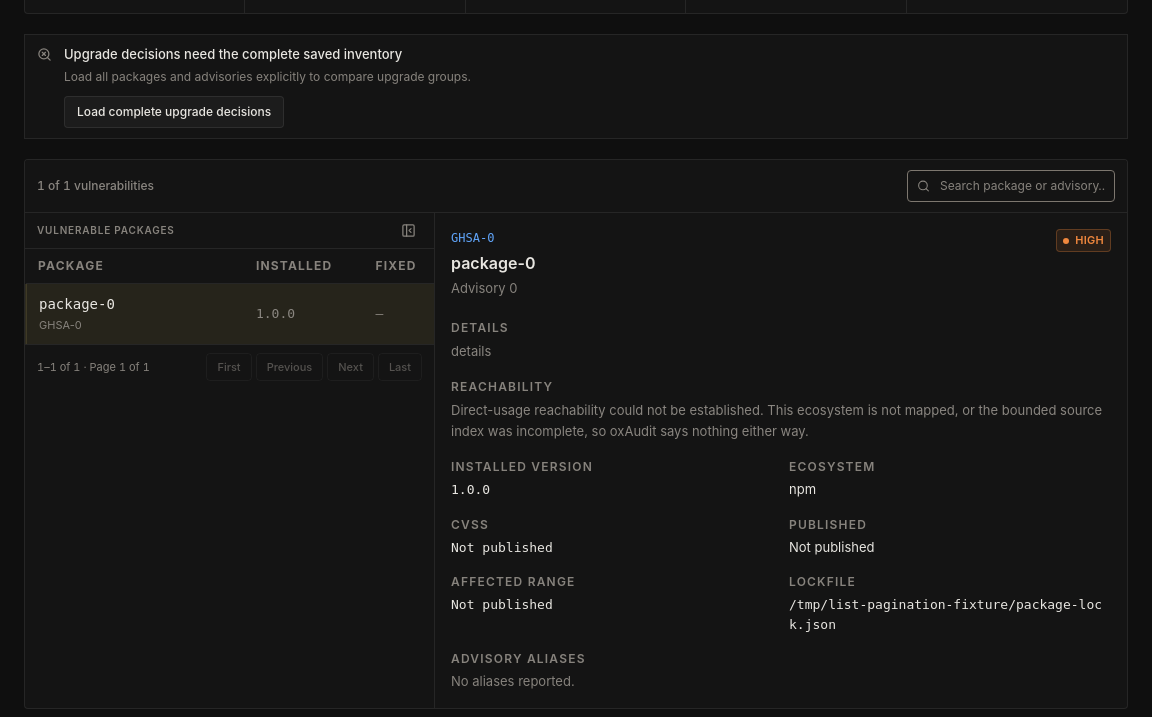
Test: returning to the same saved run starts a new complete-decision request lifetime
The width and height of the screenshot is (1152, 717).
(page scrolled)
Click the button "Load complete upgrade decisions" at point(174, 112), box [64, 96, 284, 128]
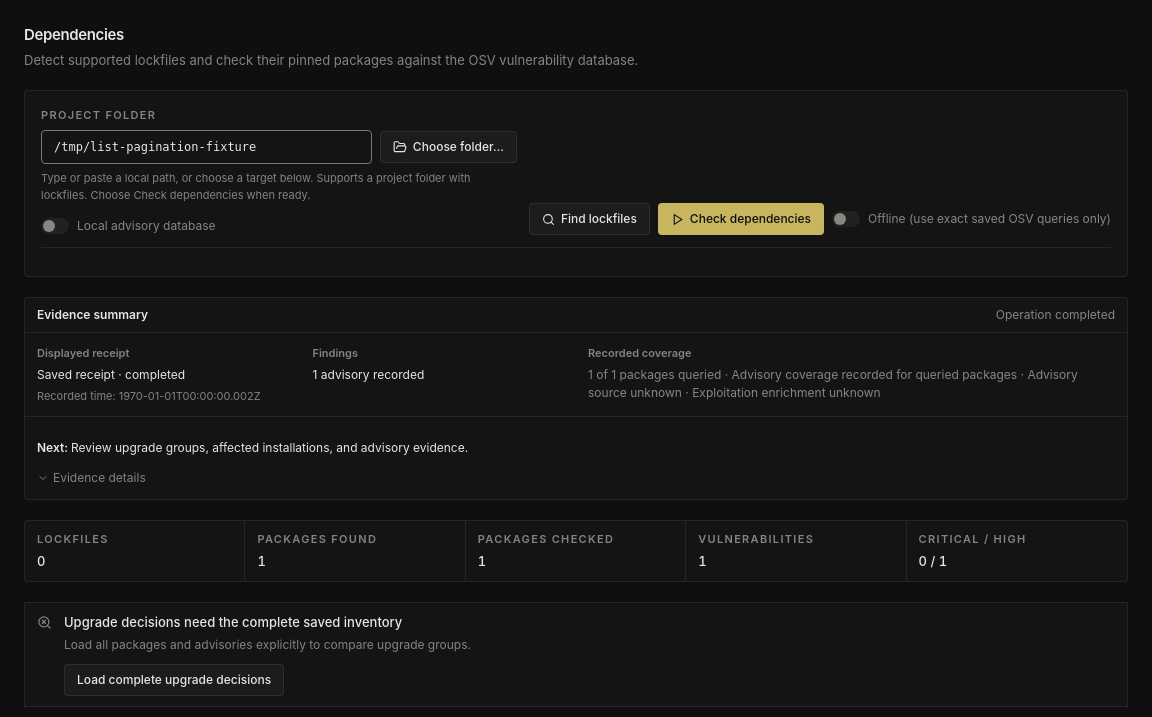
Click the button "Load complete upgrade decisions" at point(174, 680), box [64, 664, 284, 696]
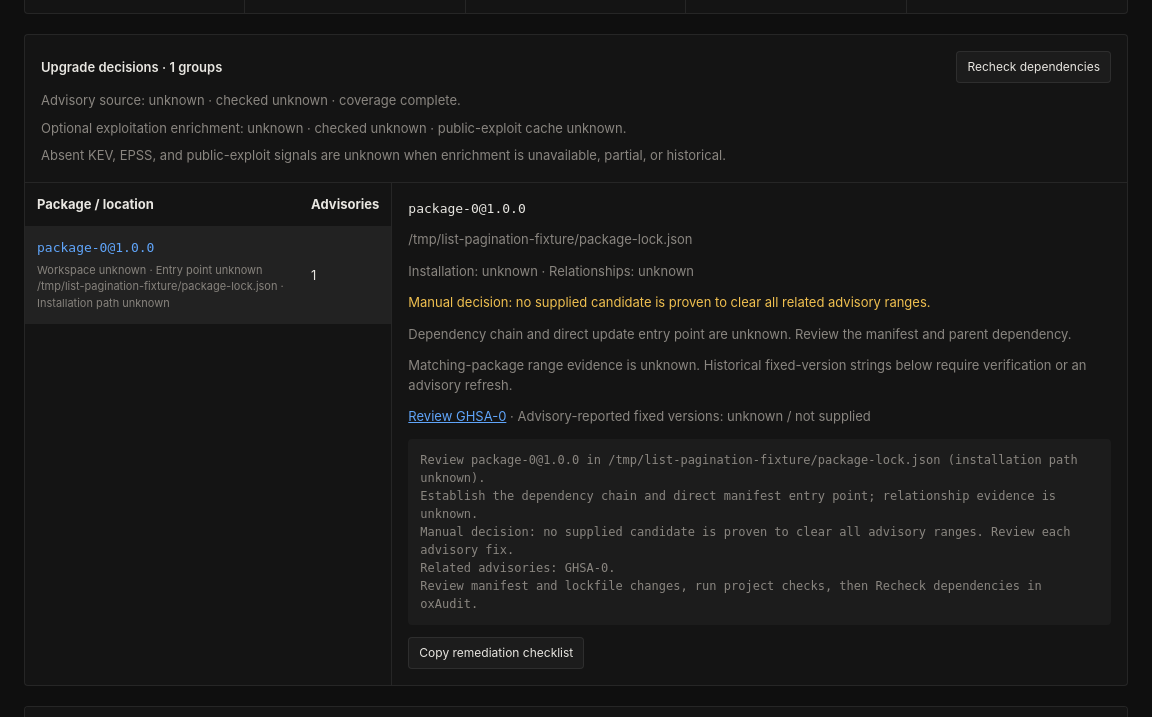
Now the element named "Dependency upgrade decisions" is shown
